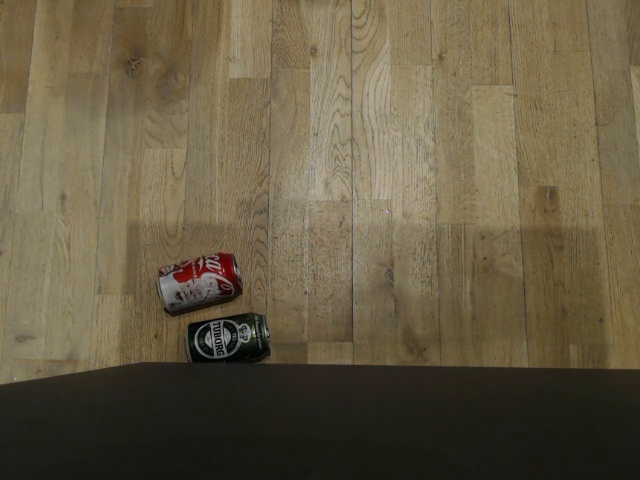beer: (183, 312, 273, 364)
cola: (154, 250, 244, 314)
